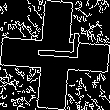L_W: (29, 38, 81, 72)
